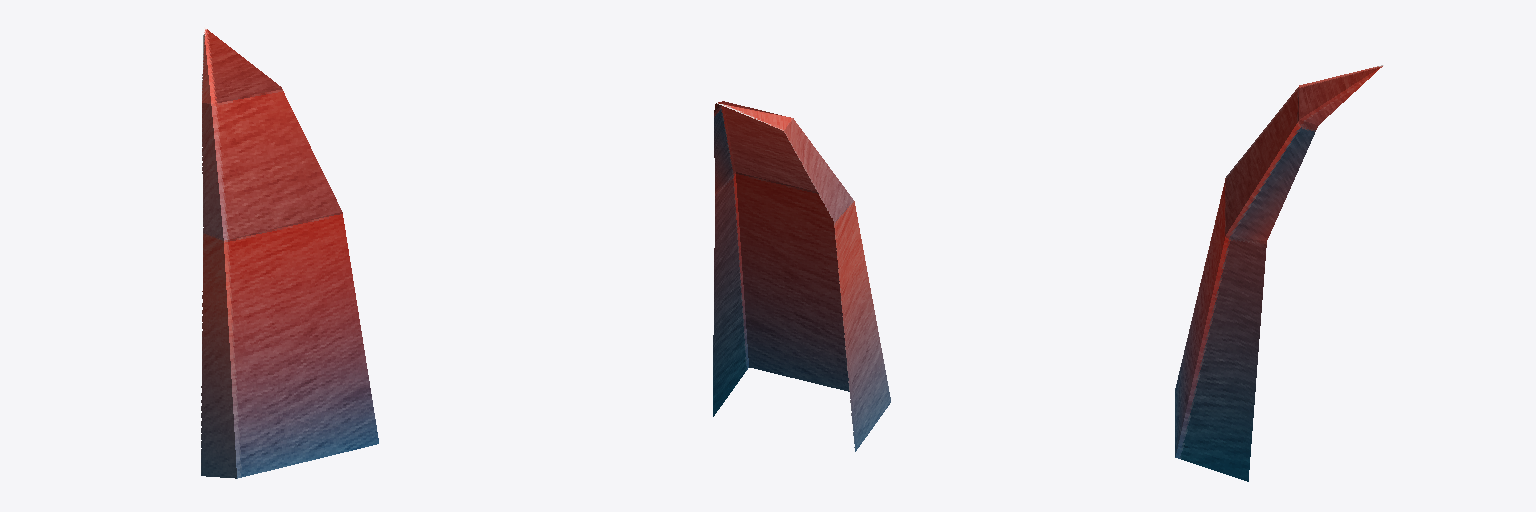
3 views of the same model, side by side, from view 1: azimuth 30°, elevation 25°; view 2: azimuth 150°, elevation 25°; view 3: azimuth 270°, elevation 25° (orthographic).
Parts seen in each view (by area): view 1: nasal_bridge; view 2: nasal_bridge; view 3: nasal_bridge.
Part boxes in pixels (x1,y1,x2,y2): nasal_bridge: (201, 27, 378, 478); nasal_bridge: (713, 101, 890, 451); nasal_bridge: (1175, 65, 1383, 481).
Bounding box in the file's own units: 36.29 × 93.22 × 46.19.
1 materials, 1 textured.